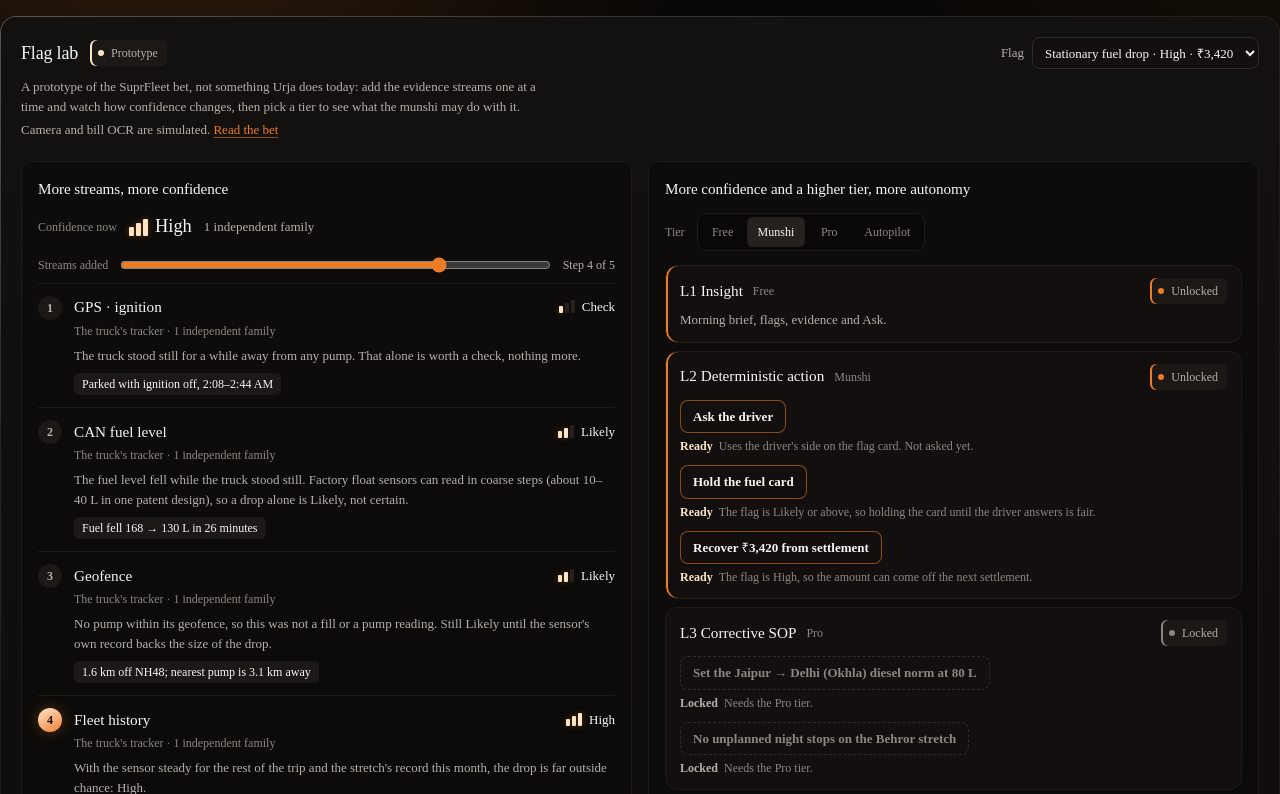
it: FlagLab · other showcases › shows a flag picker only when the trip has more than one flag, and switching resets the step
The image size is (1280, 794).
Select "Refuel mismatch · Likely · ₹4,500" in the dropdown labelled "Flag" at [1146, 53], box [1032,37,1259,69]
(page scrolled)
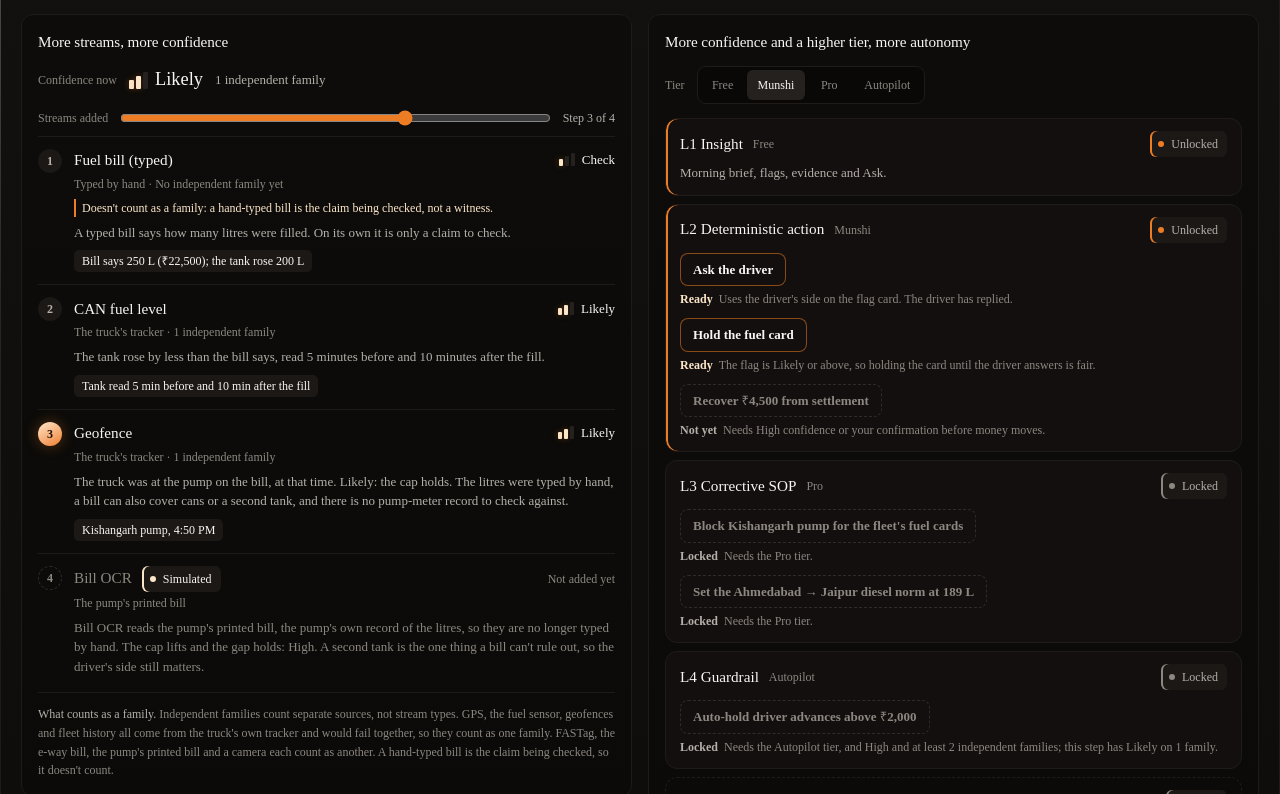
Expected: the slider labelled "Streams added" holds "3", [120,106,551,130]
Expected: the element "Flag lab" shows "Fuel bill (typed)", [74,151,173,168]
